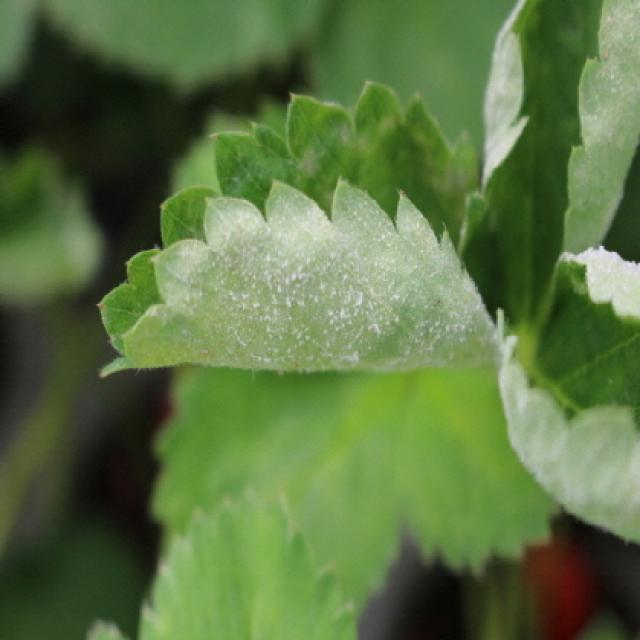powdery_mildew_leaf: (93, 78, 493, 380), (456, 0, 637, 332), (491, 245, 638, 548)
